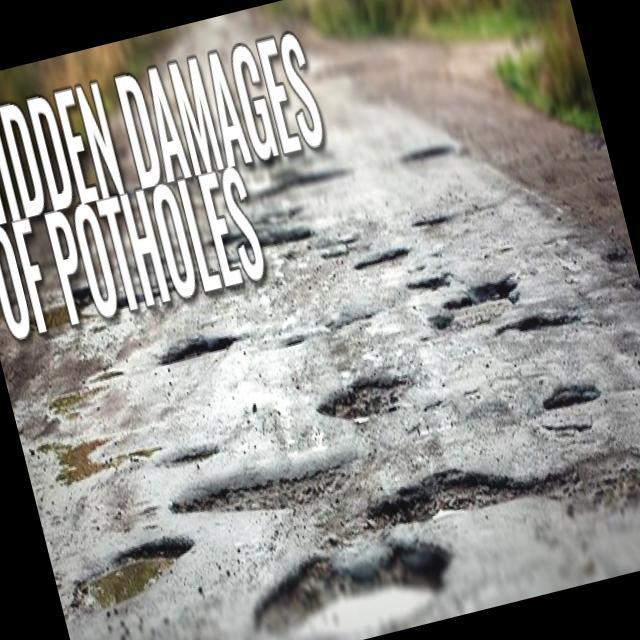Pothole: (239, 515, 464, 640), (362, 454, 536, 554), (170, 450, 342, 538), (61, 522, 205, 617), (540, 431, 640, 545), (313, 372, 412, 432), (440, 270, 520, 316), (159, 330, 234, 372), (541, 377, 601, 418), (353, 246, 411, 276), (165, 440, 218, 470), (406, 270, 448, 294), (280, 326, 308, 352), (414, 212, 450, 230), (432, 313, 453, 334)
